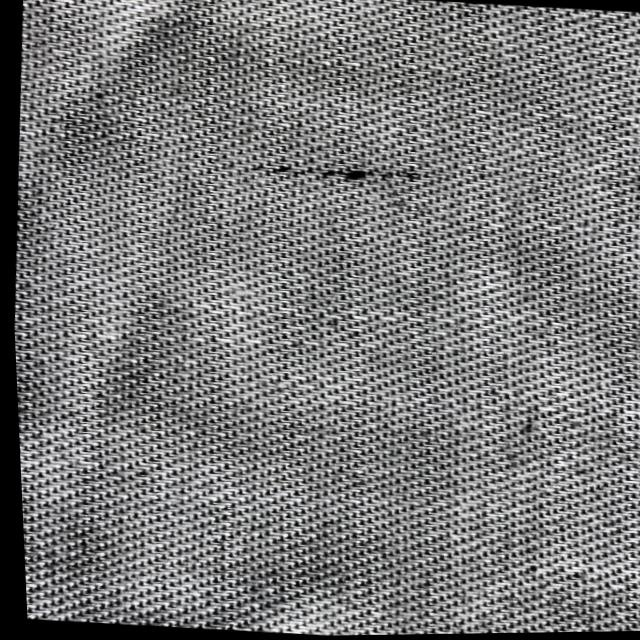Hole: (311, 154, 389, 192)
